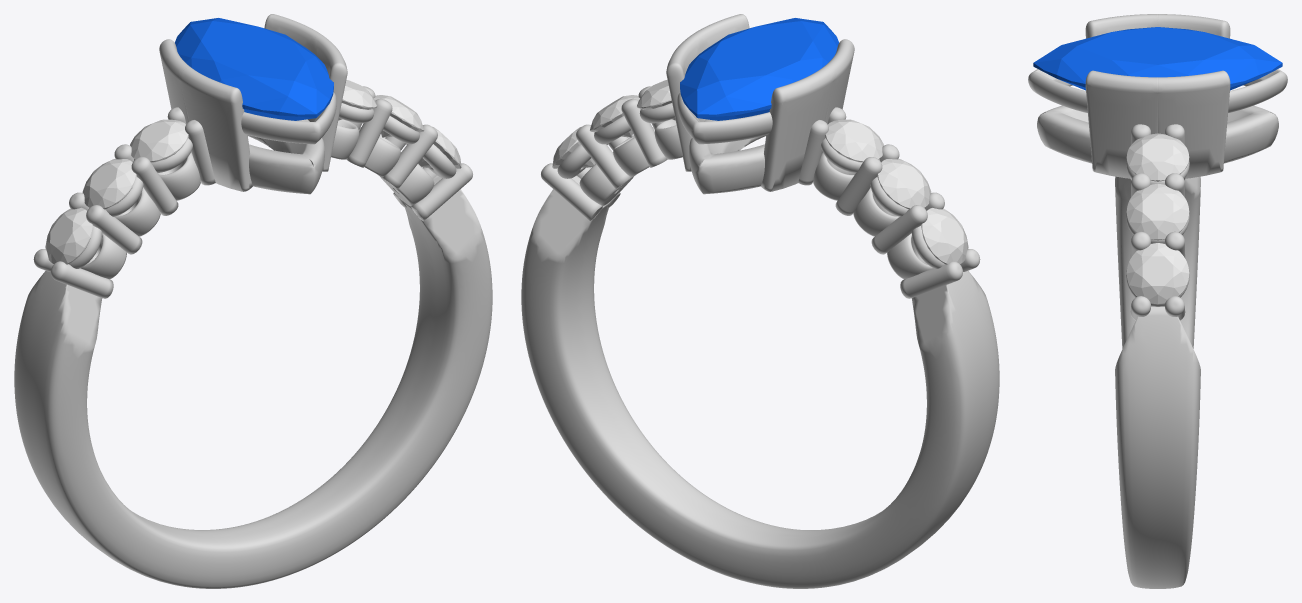
The model's file is bluesapphire-marquise-platinum-halfmoonbezel-straighttaperedband-7stone.glb.
The picture shows the model from 3 angles, left to right: view 1: azimuth 30°, elevation 25°; view 2: azimuth 150°, elevation 25°; view 3: azimuth 270°, elevation 25°; orthographic projection.
Visible parts, largest first — view 1: metal.003, stone.001, dia.002, dia.015, dia.016, dia.018, dia.019; view 2: metal.003, stone.001, dia.002, dia.015, dia.016, dia.018, dia.019; view 3: metal.003, stone.001, dia.017, dia.018, dia.019.
Boxes of the visible parts, bbox=[...] form: metal.003: bbox=[14, 14, 492, 588]; stone.001: bbox=[175, 18, 333, 120]; dia.002: bbox=[45, 207, 92, 264]; dia.015: bbox=[82, 159, 136, 209]; dia.016: bbox=[130, 119, 188, 162]; dia.018: bbox=[374, 95, 423, 137]; dia.019: bbox=[338, 80, 376, 120]; metal.003: bbox=[521, 14, 999, 588]; stone.001: bbox=[680, 18, 838, 120]; dia.002: bbox=[921, 208, 968, 264]; dia.015: bbox=[877, 159, 931, 209]; dia.016: bbox=[825, 119, 883, 162]; dia.018: bbox=[589, 95, 639, 137]; dia.019: bbox=[637, 80, 675, 120]; metal.003: bbox=[1028, 14, 1287, 588]; stone.001: bbox=[1033, 27, 1282, 90]; dia.017: bbox=[1126, 243, 1189, 304]; dia.018: bbox=[1126, 184, 1189, 240]; dia.019: bbox=[1126, 133, 1189, 181].
Size of the model in its own units: 20.5 by 22.93 by 10.4.
